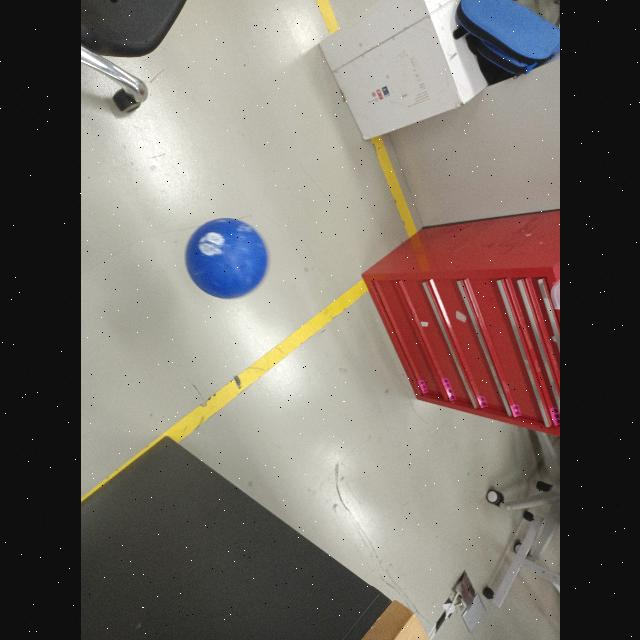B: (184, 214, 270, 300)
